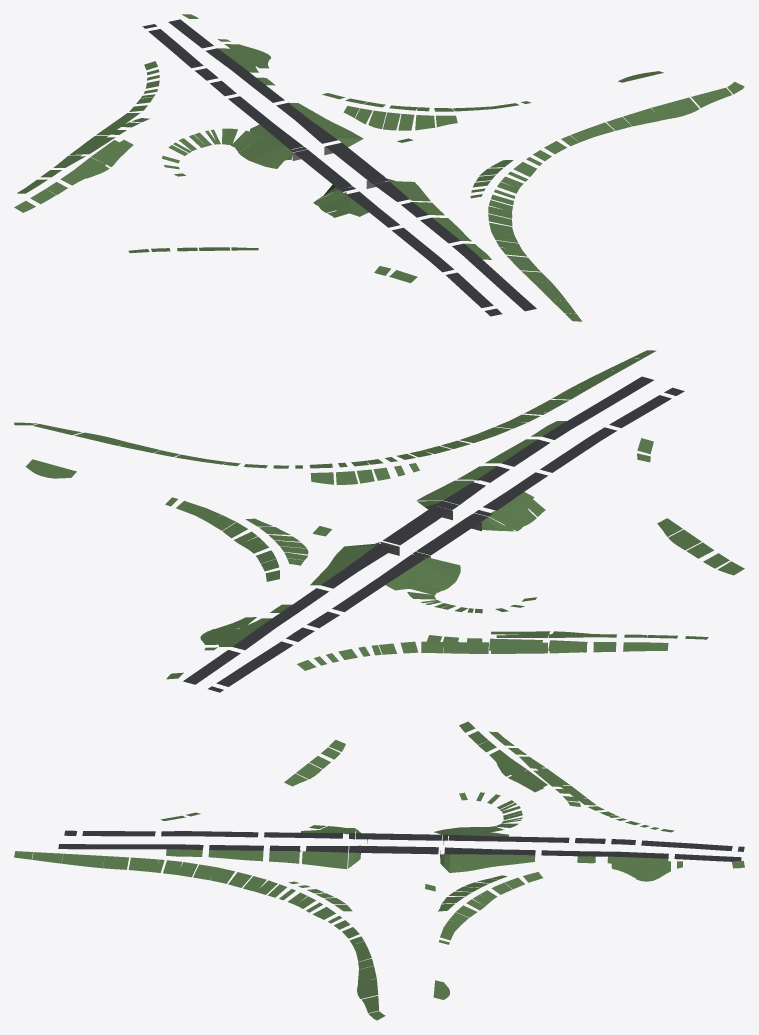
The model's file is br_y79_bremner_lod2.gltf.
3 renders of one model, top to bottom at view 1: azimuth 30°, elevation 25°; view 2: azimuth 150°, elevation 25°; view 3: azimuth 270°, elevation 25°, orthographic. The views are drawn at different scales.
Parts seen in each view (by area): view 1: br_y79_bremner_lod2; view 2: br_y79_bremner_lod2; view 3: br_y79_bremner_lod2.
Part boxes in pixels (bbox=[...]): br_y79_bremner_lod2: bbox=[14, 14, 744, 321]; br_y79_bremner_lod2: bbox=[14, 350, 744, 692]; br_y79_bremner_lod2: bbox=[14, 721, 744, 1020].
Bounding box in the file's own units: 686 × 11.58 × 724.
